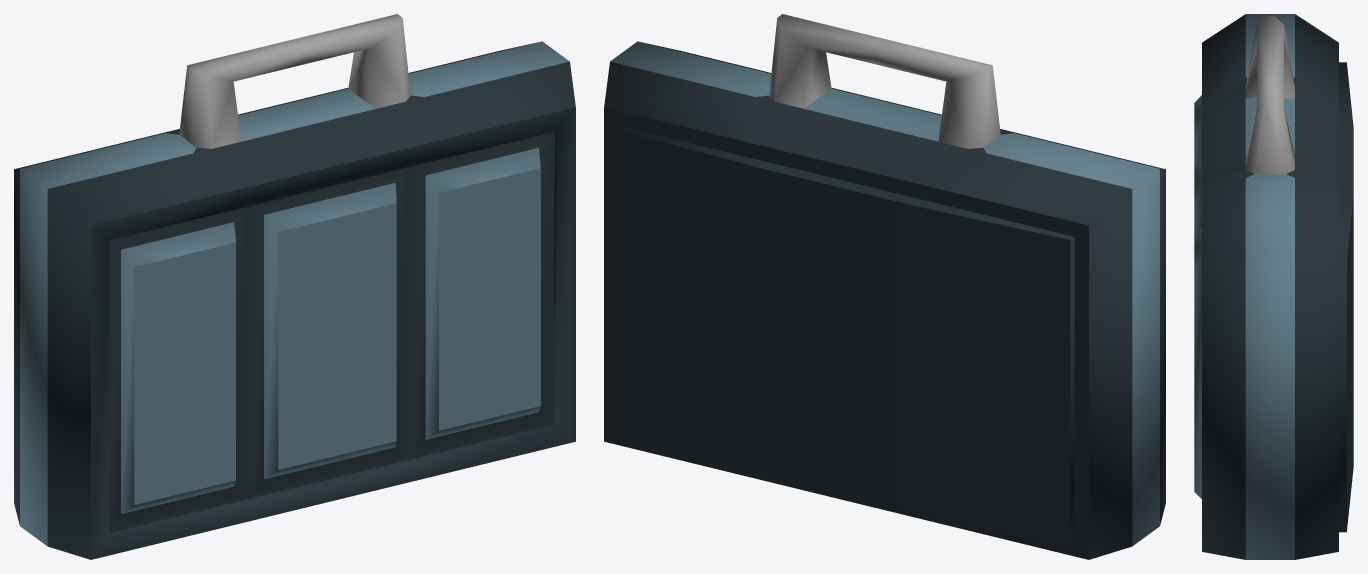
File: HandBag.fbx
3 renders of one model, left to right at view 1: azimuth 30°, elevation 25°; view 2: azimuth 150°, elevation 25°; view 3: azimuth 270°, elevation 25°, orthographic. The views are drawn at different scales.
Visible parts, largest first — view 1: BusinessHandBag; view 2: BusinessHandBag; view 3: BusinessHandBag.
Boxes of the visible parts, <box> form: BusinessHandBag: <box>14,14,575,559</box>; BusinessHandBag: <box>604,14,1165,559</box>; BusinessHandBag: <box>1194,14,1353,559</box>.
Size of the model in its own units: 1.5 by 1.18 by 0.4435.
